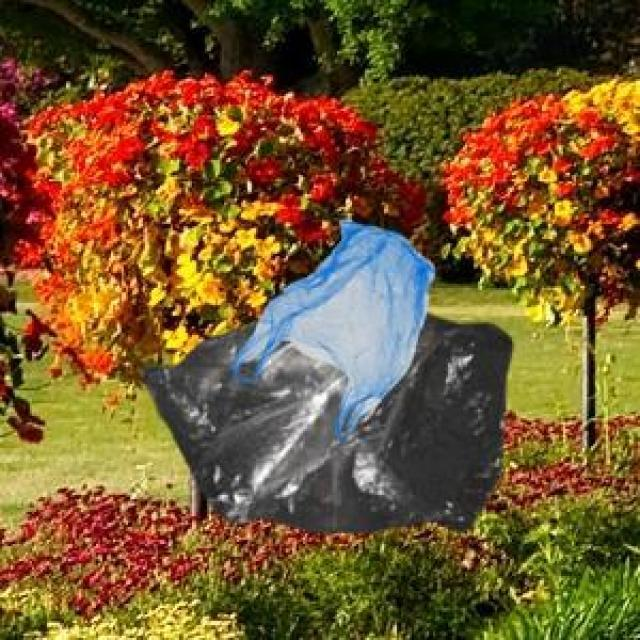Trashbag: (137, 315, 519, 542)
